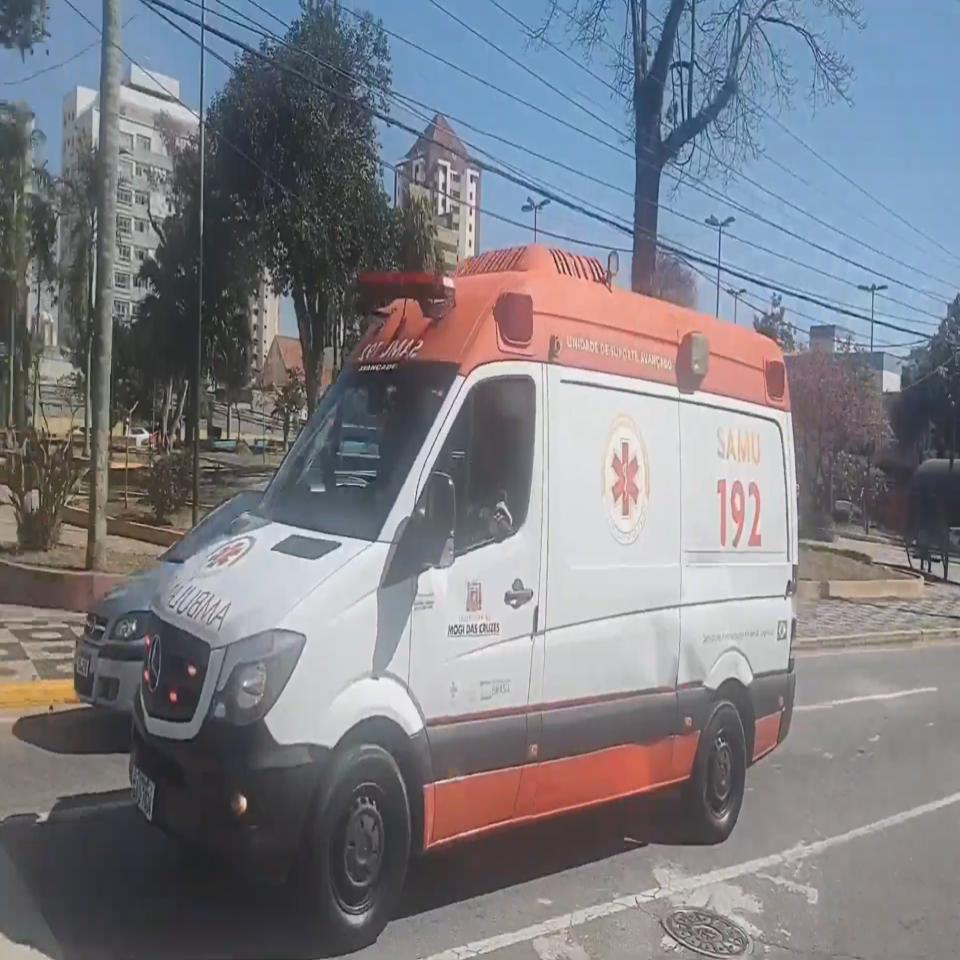bombeiro: (127, 244, 798, 946)
